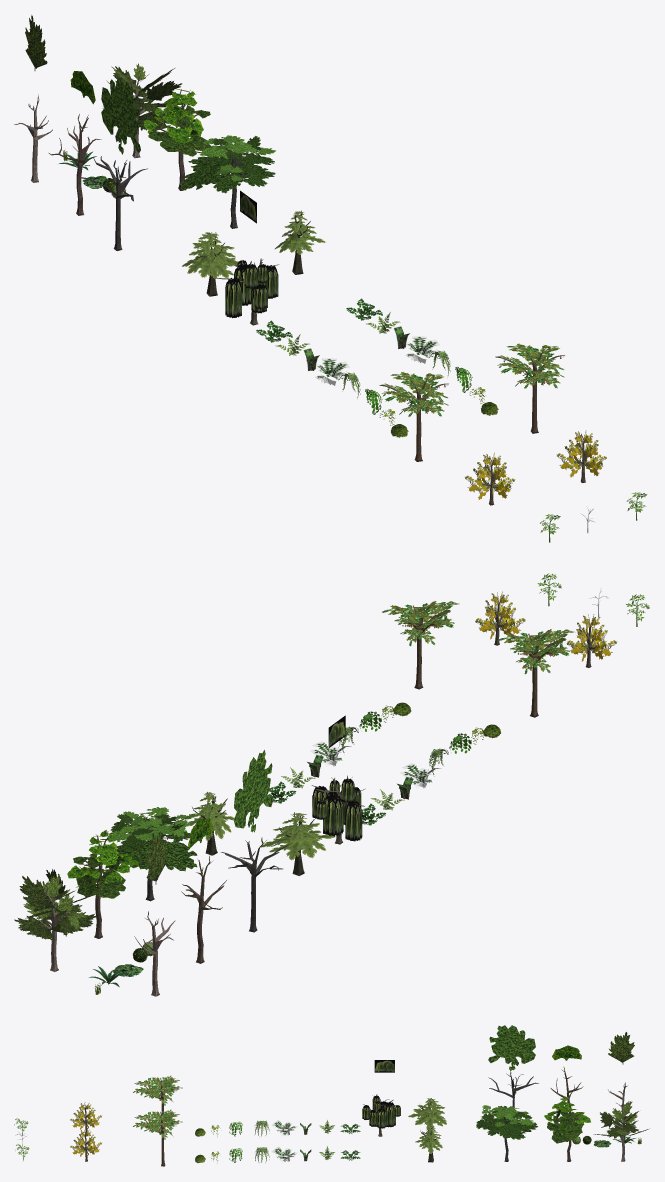
File: CayCo.fbx
3 renders of one model, top to bottom at view 1: azimuth 30°, elevation 25°; view 2: azimuth 150°, elevation 25°; view 3: azimuth 270°, elevation 25°, orthographic. The views are drawn at different scales.
Parts seen in each view (by area): view 1: cay chet.012, Plane.075, TanThong.001, cay chet.011, cay chet.007, cay chet.005; view 2: cay chet.012, Plane.075, TanThong.001, cay chet.011, cay chet.007, Plane.098, cay chet.005, Plane.007, cay chet.003, Plane.016; view 3: Plane.075, cay chet.012, TanThong.001, Plane.007, cay chet.011, Plane.033, cay chet.007, TanThong.006, CayDai4.
Boxes of the visible parts, bbox=[...] form: cay chet.012: bbox=[495, 343, 564, 433]; Plane.075: bbox=[101, 78, 140, 154]; TanThong.001: bbox=[182, 232, 238, 278]; cay chet.011: bbox=[556, 430, 606, 482]; cay chet.007: bbox=[76, 156, 147, 250]; cay chet.005: bbox=[49, 114, 101, 215]; cay chet.012: bbox=[382, 601, 459, 689]; Plane.075: bbox=[233, 750, 273, 832]; TanThong.001: bbox=[261, 813, 335, 860]; cay chet.011: bbox=[475, 591, 525, 645]; cay chet.007: bbox=[221, 837, 292, 932]; Plane.098: bbox=[141, 836, 197, 871]; cay chet.005: bbox=[181, 855, 226, 963]; Plane.007: bbox=[146, 831, 168, 884]; cay chet.003: bbox=[134, 911, 175, 996]; Plane.016: bbox=[19, 876, 51, 911]; Plane.075: bbox=[488, 1025, 535, 1070]; cay chet.012: bbox=[133, 1109, 182, 1166]; TanThong.001: bbox=[408, 1098, 446, 1130]; Plane.007: bbox=[608, 1032, 634, 1064]; cay chet.011: bbox=[70, 1129, 101, 1161]; Plane.033: bbox=[552, 1045, 581, 1060]; cay chet.007: bbox=[488, 1071, 538, 1106]; TanThong.006: bbox=[374, 1060, 394, 1072]; CayDai4: bbox=[271, 1146, 298, 1163].
Size of the model in its own units: 1239 by 1083 by 5822.
Materials: 19 (18 with a texture image).
